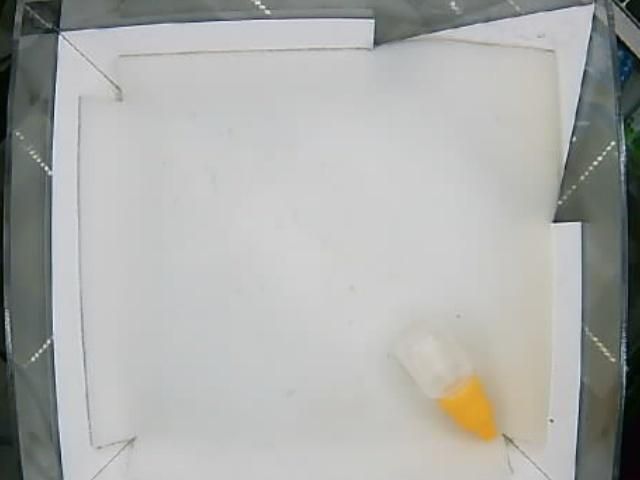Bottle: (392, 315, 501, 444)
